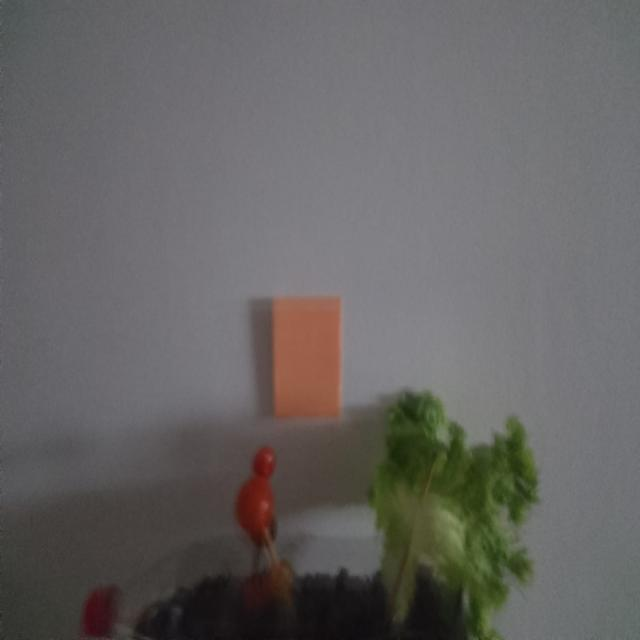card: (271, 297, 342, 418)
fruit_maturation: (267, 559, 294, 604)
fully_grown: (235, 476, 274, 542), (253, 446, 275, 478)
